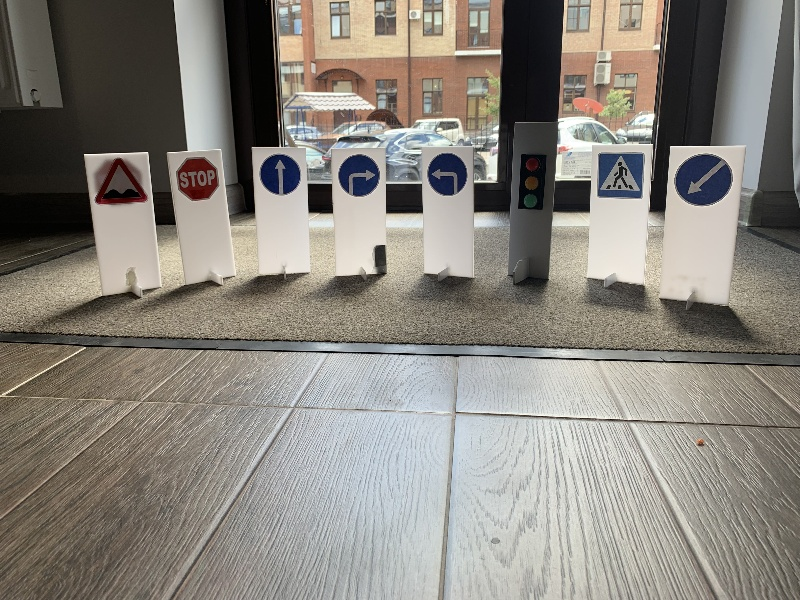Left: (426, 152, 467, 196)
Nerov: (96, 157, 150, 206)
Right: (339, 153, 380, 199)
Stop: (174, 156, 220, 201)
forw: (260, 153, 301, 196)
pesh: (595, 151, 645, 199)
prep: (674, 153, 733, 210)
